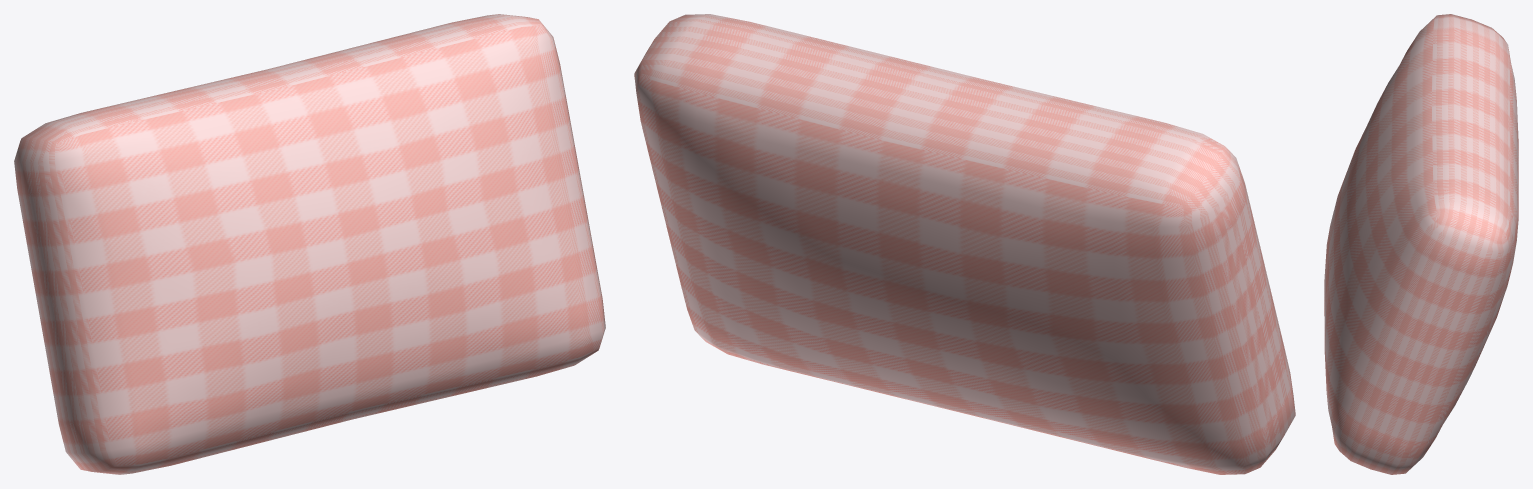
File: pillow.fbx
3 renders of one model, left to right at view 1: azimuth 30°, elevation 25°; view 2: azimuth 150°, elevation 25°; view 3: azimuth 270°, elevation 25°, orthographic. The views are drawn at different scales.
Visible parts, largest first — view 1: 枕头; view 2: 枕头; view 3: 枕头.
Part boxes in pixels (left/top/right/bottom): 枕头: left=14, top=14, right=605, bottom=474; 枕头: left=634, top=14, right=1295, bottom=474; 枕头: left=1324, top=14, right=1518, bottom=474.
Size of the model in its own units: 92.7 by 54.55 by 35.23.
